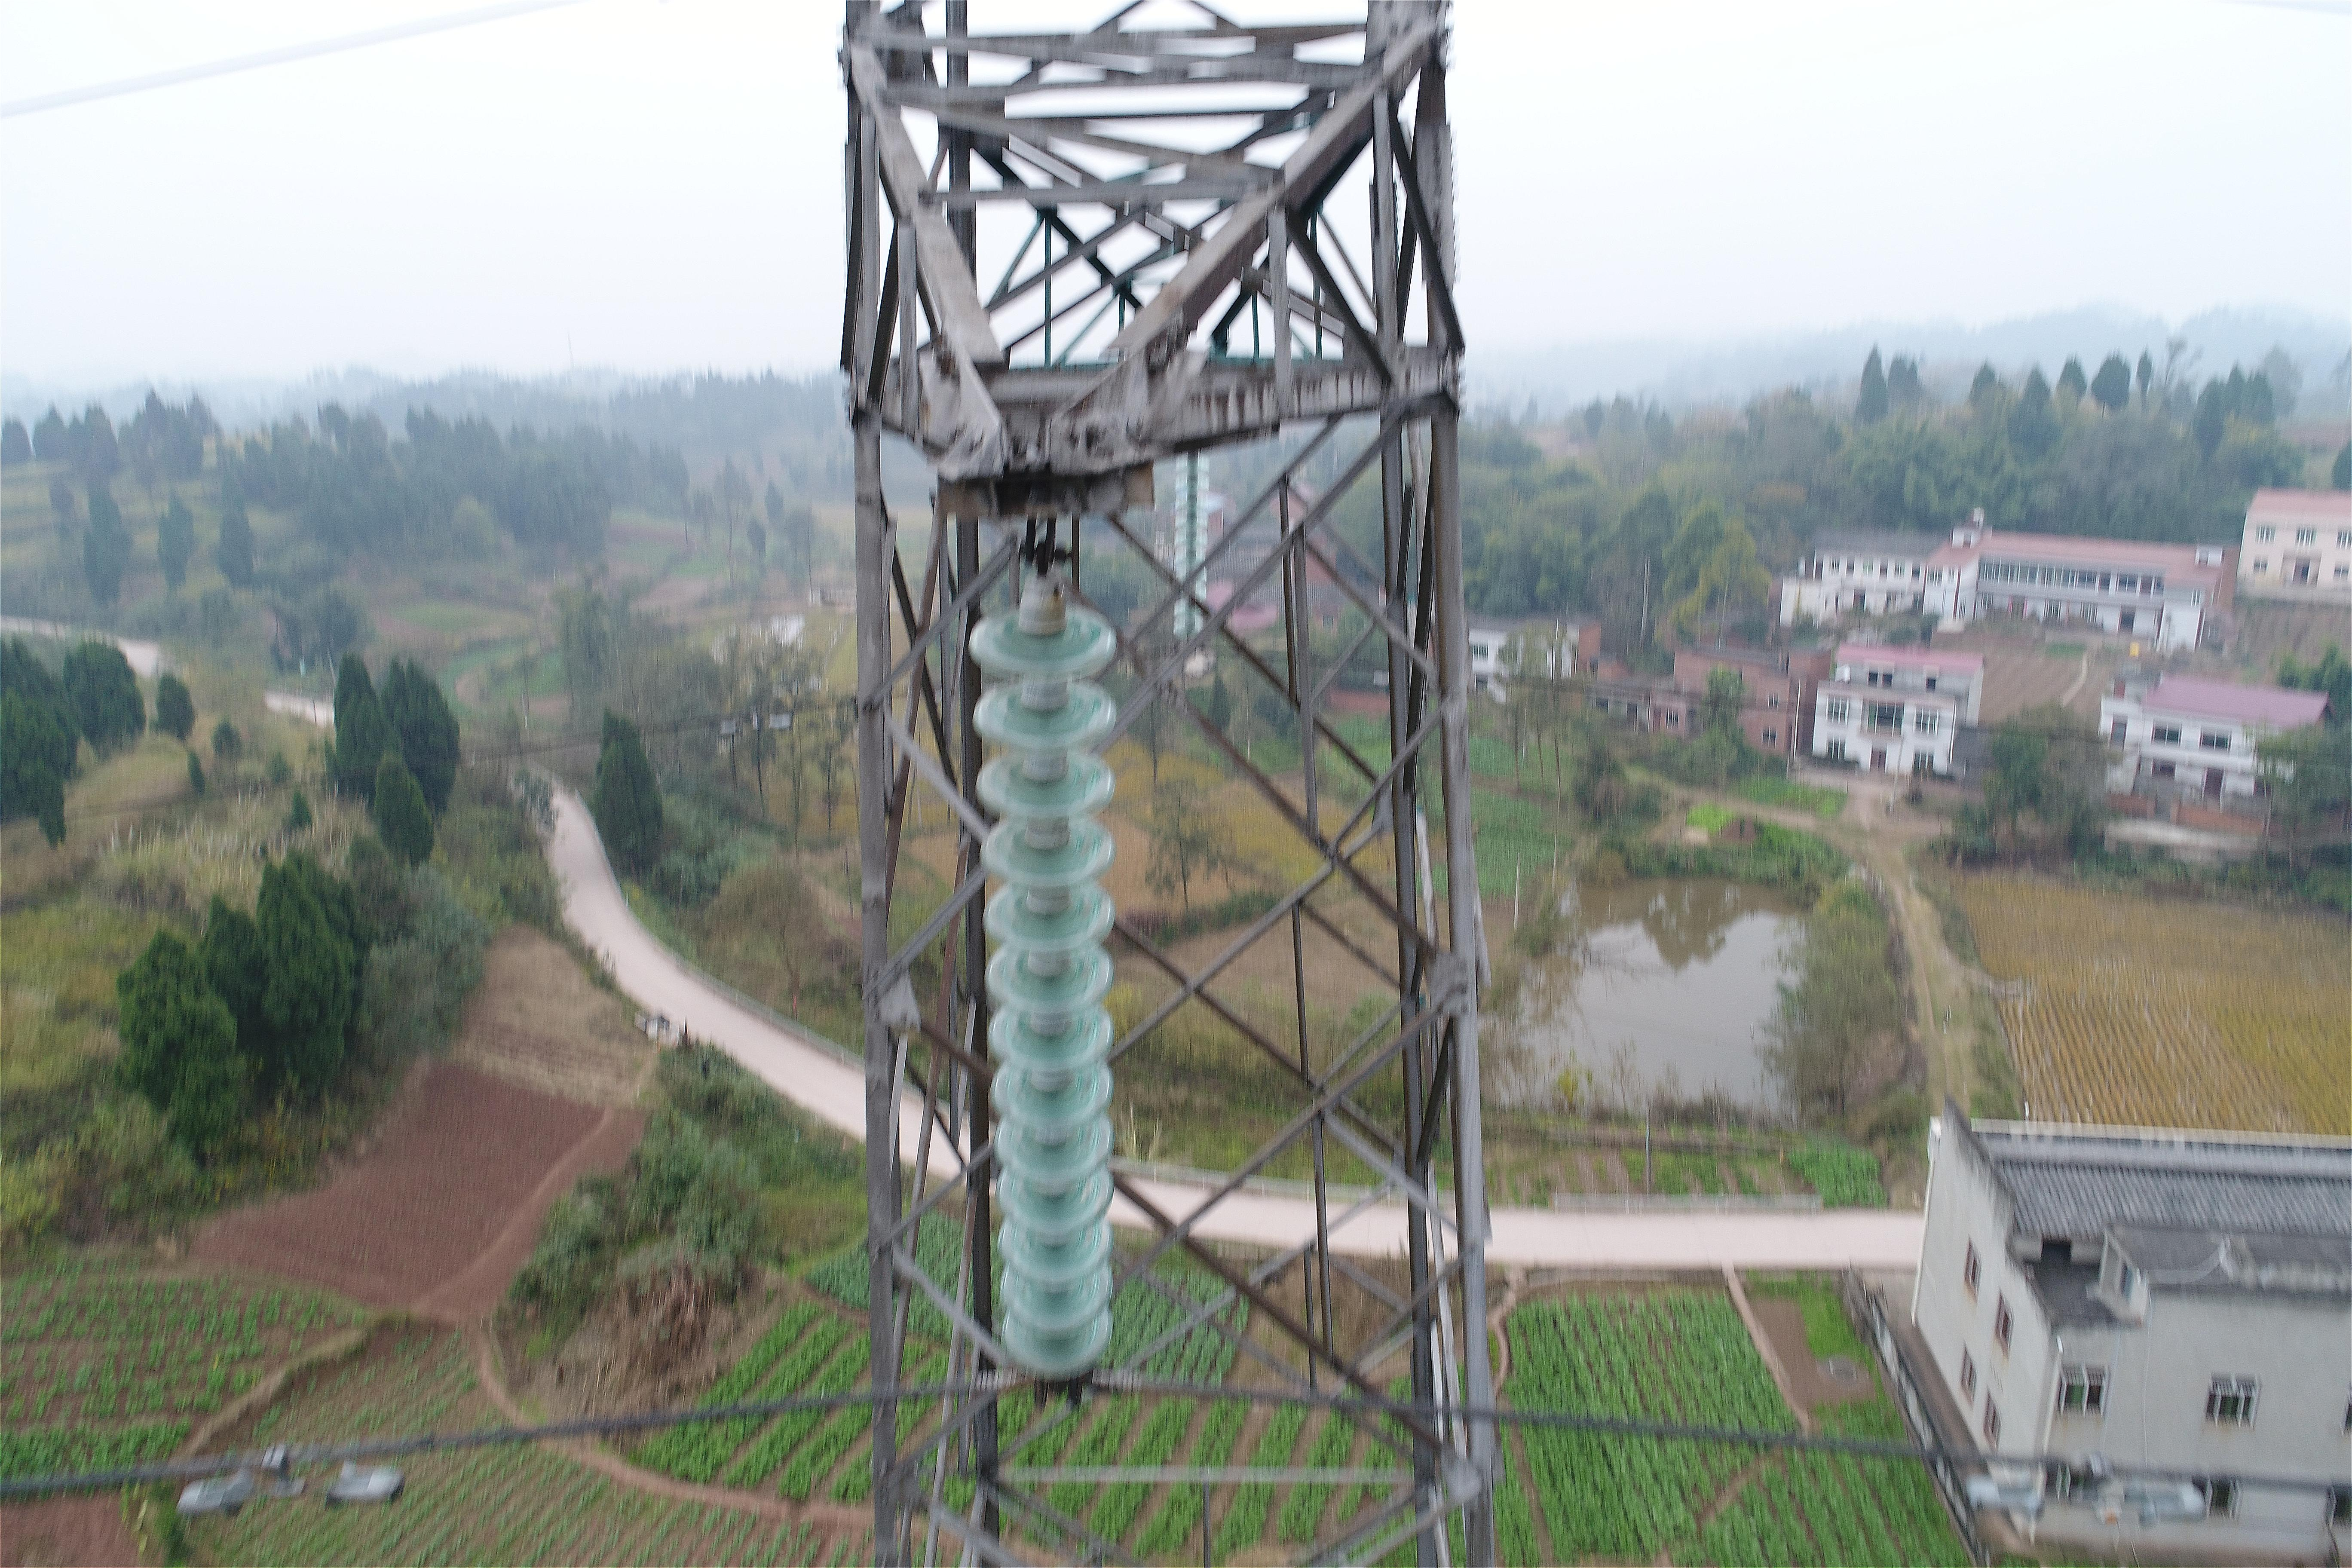insultor3: (892, 553, 1183, 1379)
